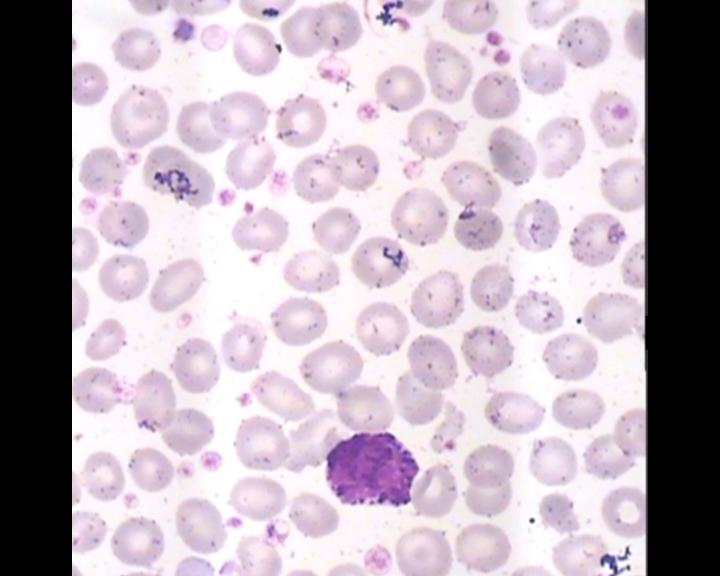baso: (322, 429, 419, 507)
